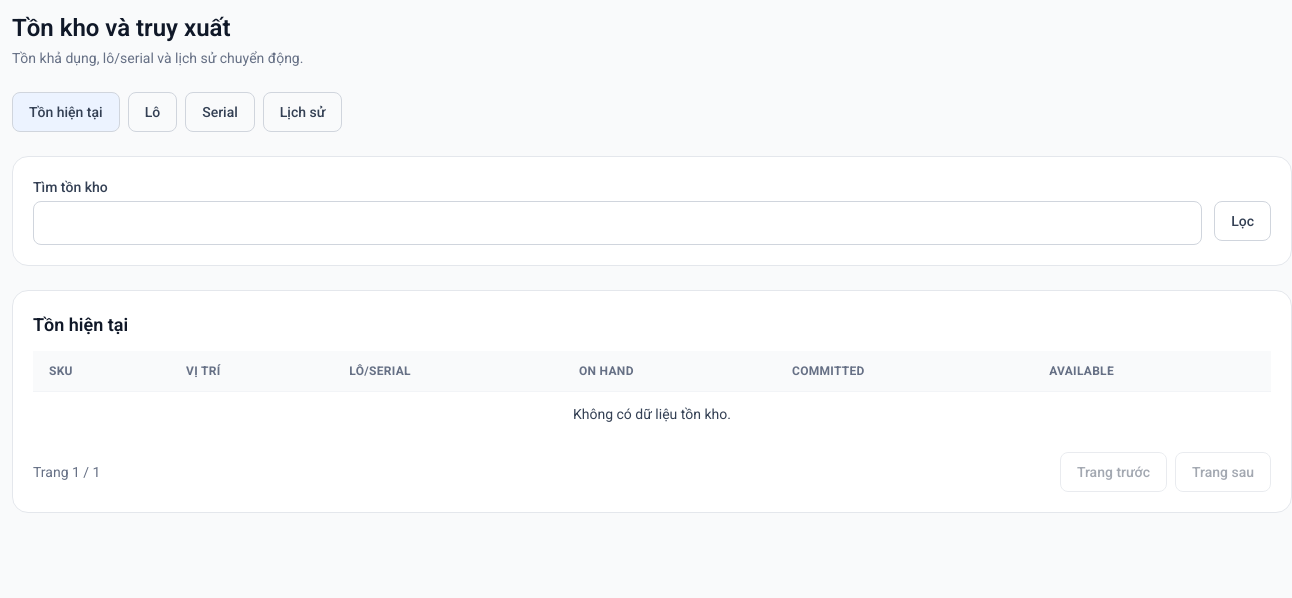
InventoryPage › loads traceability views and renders empty and error states
Expected: the text "Không có dữ liệu tồn kho." is shown, [33,392,1271,436]
Click the button "Lịch sử". click: click(303, 112)
box: [263,92,342,132]
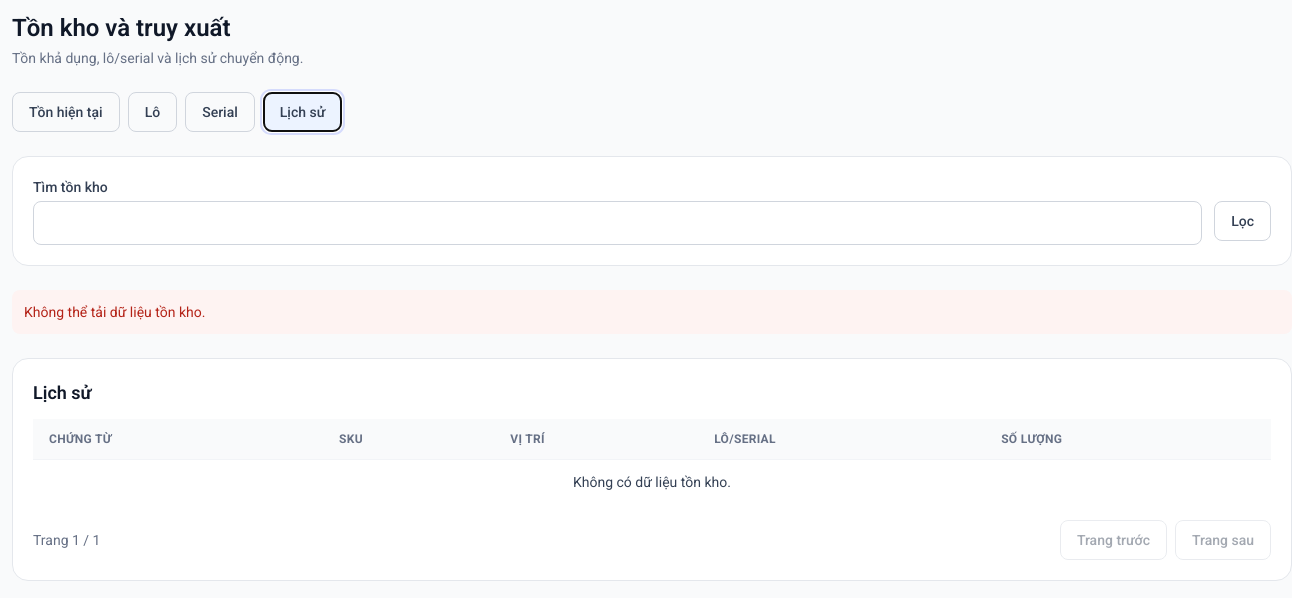
Expected: the message shows "Không thể tải dữ liệu tồn kho", [24,304,206,320]
